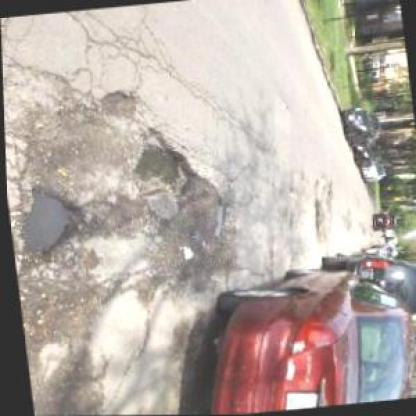pothole: (121, 124, 201, 206), (13, 180, 84, 261), (97, 87, 139, 122), (309, 200, 325, 233), (176, 243, 194, 262)
